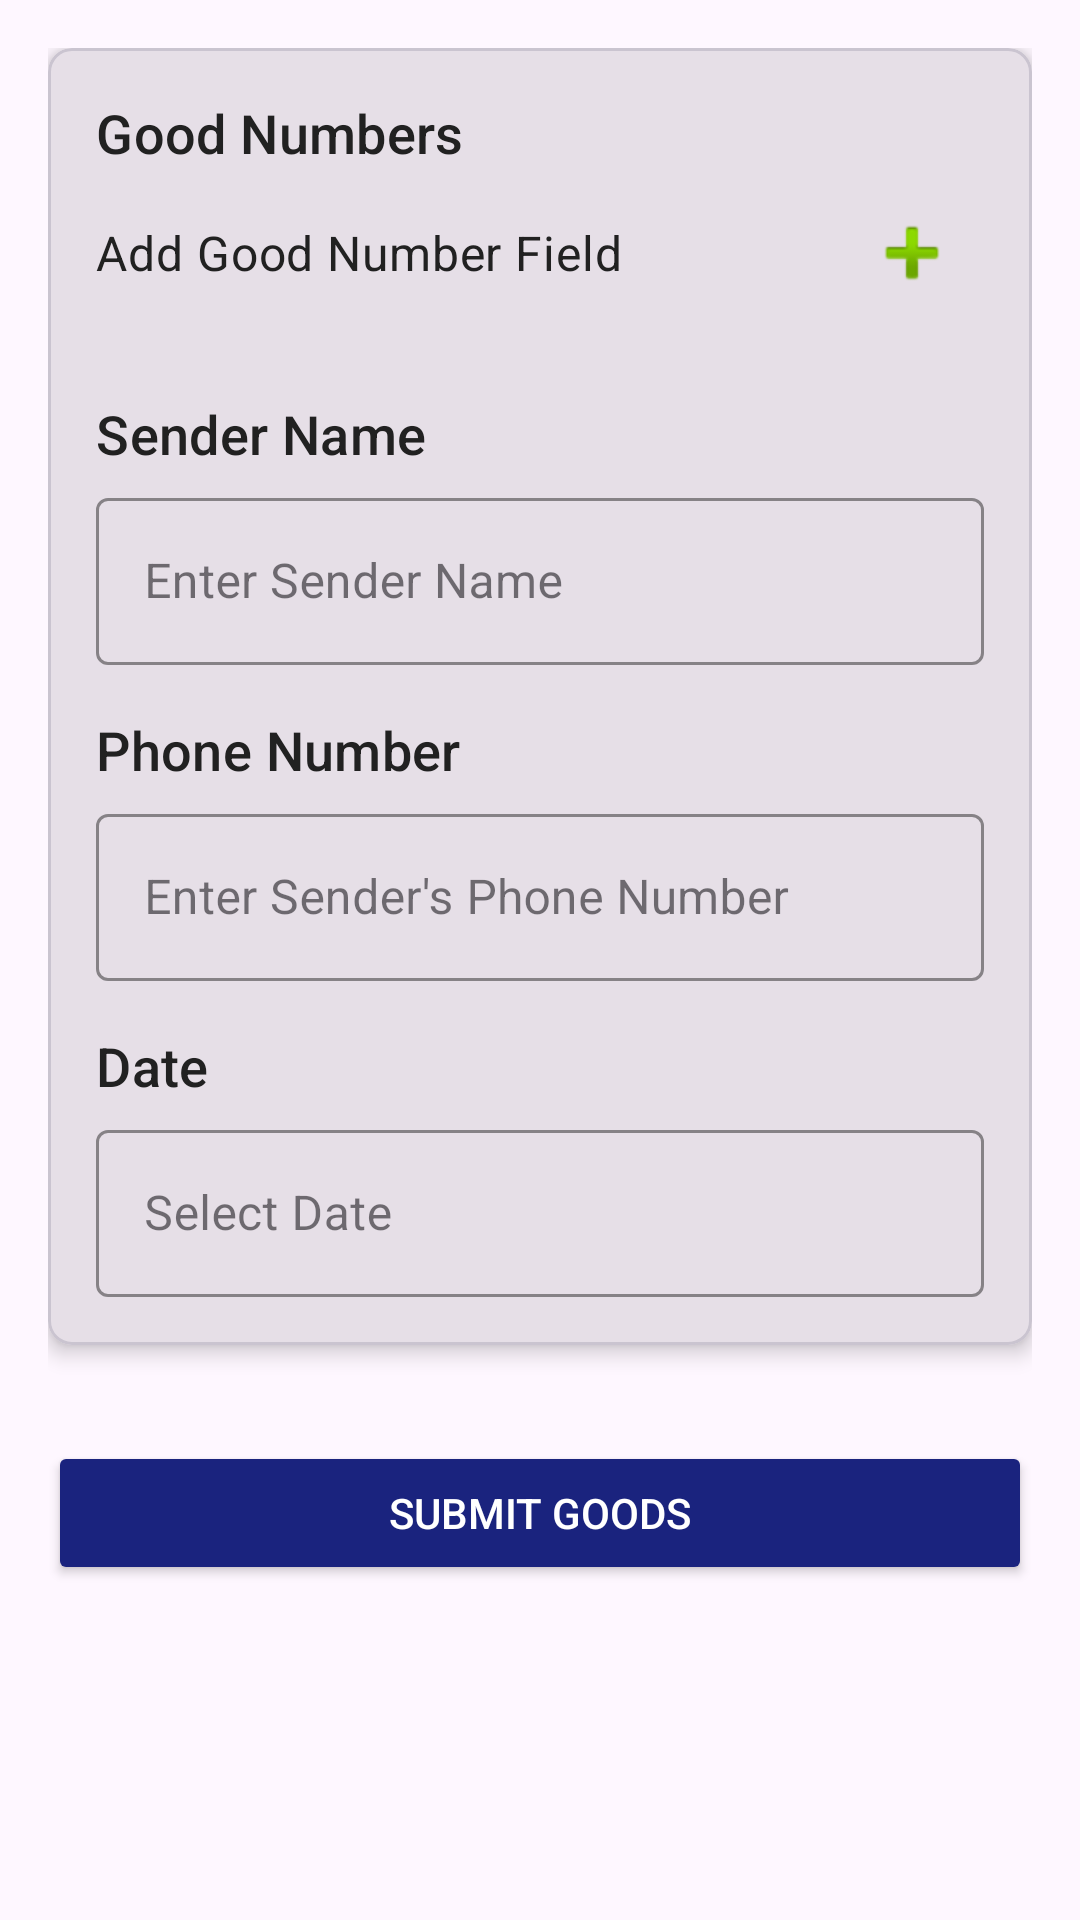

Screen size 1080x1920. Icon name, then its center in pixels as (x=x, y=y):
Add another good number input field: (x=912, y=253)
